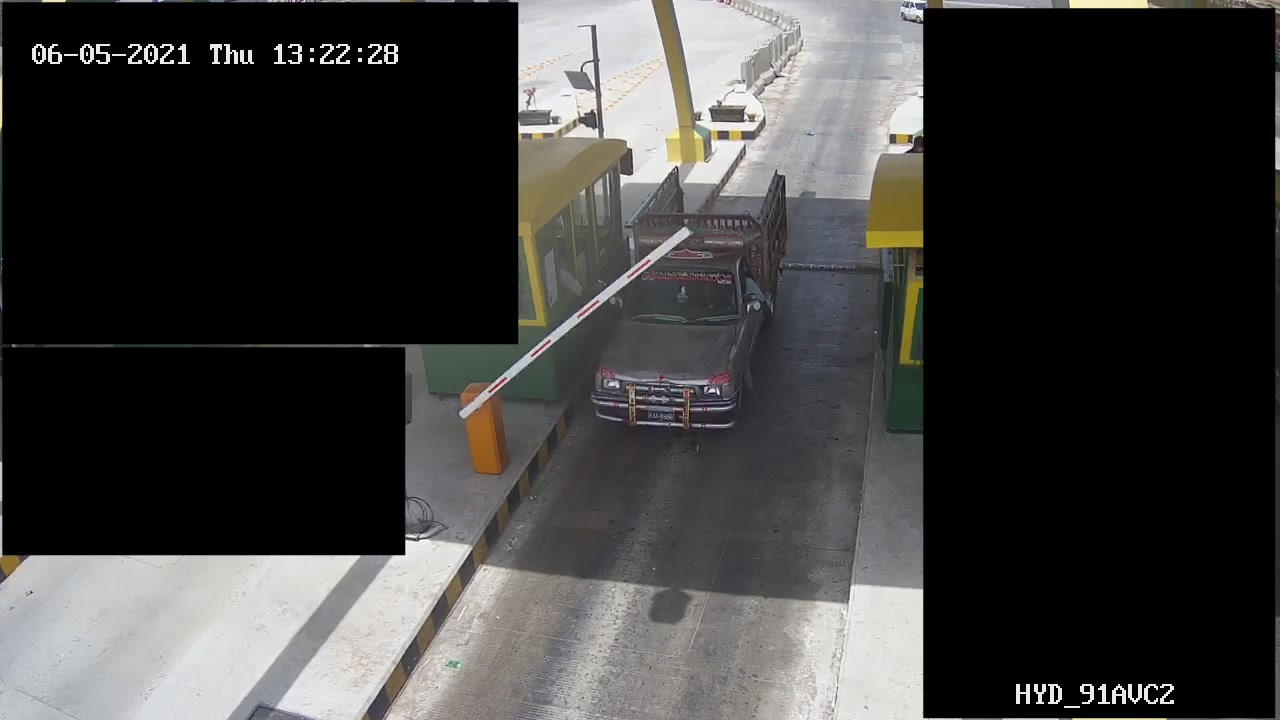F1: (581, 149, 803, 448)
